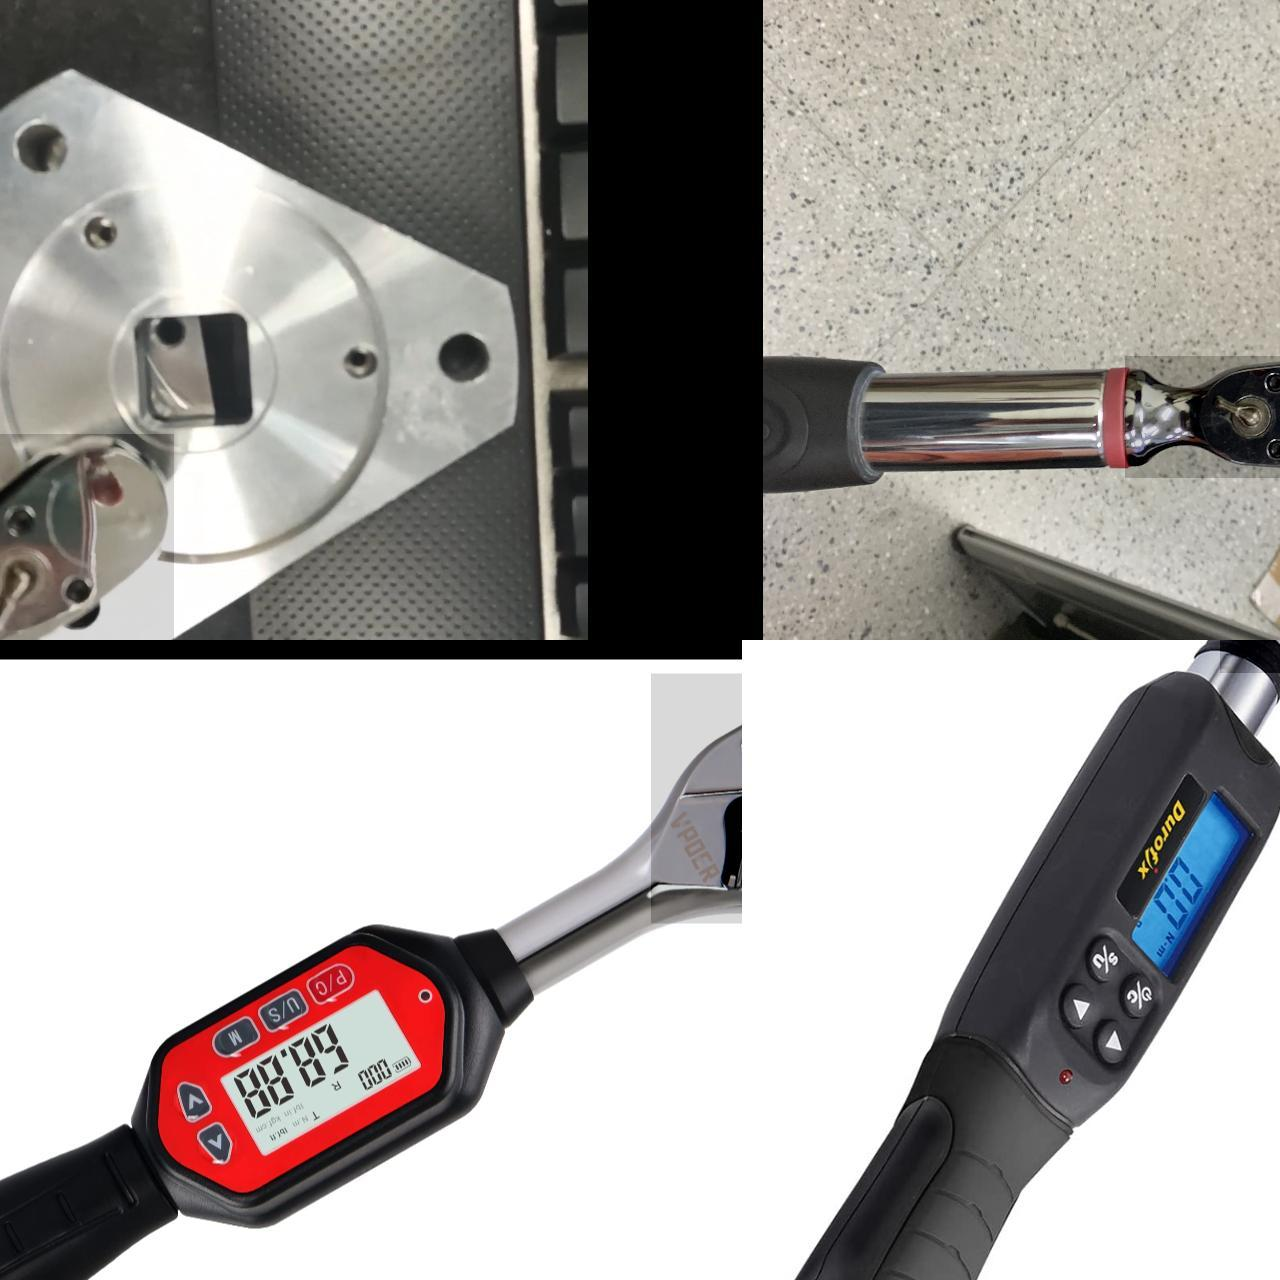Tool: (0, 436, 171, 642), (652, 674, 740, 931), (1128, 355, 1280, 476)
hole: (11, 122, 81, 185), (435, 333, 492, 399), (79, 213, 136, 270), (341, 338, 386, 393)
